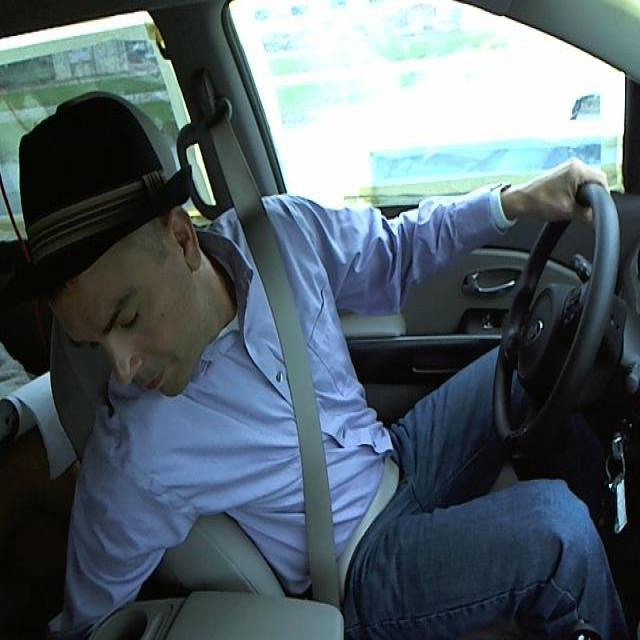seatbelt: (243, 255, 386, 601)
